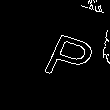P_N: (36, 21, 99, 81)
